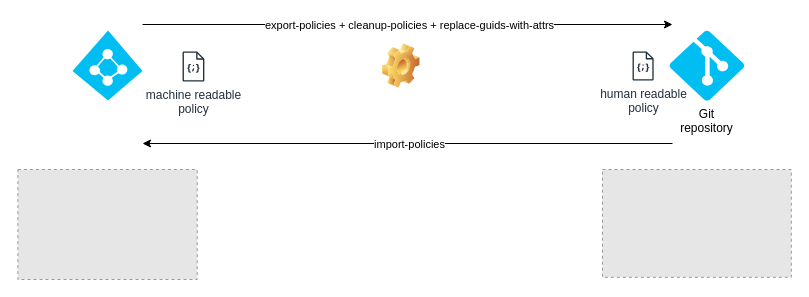
Some shapes in this 809 by 297 pixel diagram are drawn without their labels. Grey dashed boxes stand in for pictures. The box of each missing label's shape, as (x1, y1, x2, y2) in pixels:
ca-powertoys: (382, 44, 420, 88)
Entra ID Tenant: (72, 30, 142, 100)
